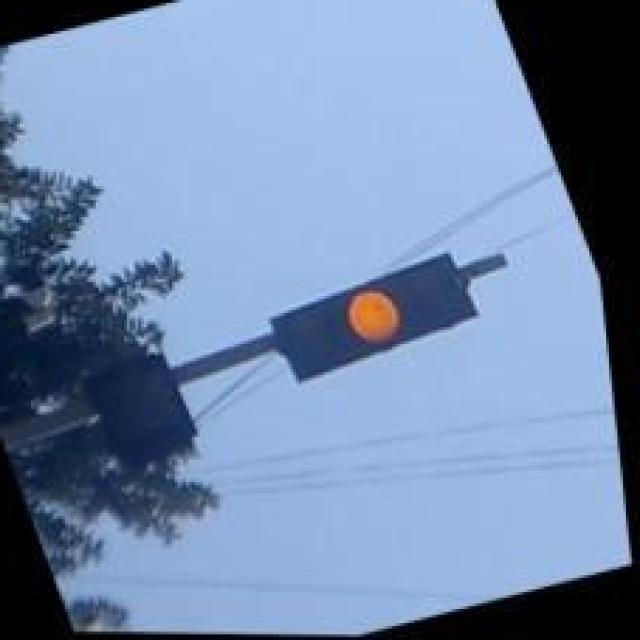yellow_light: (271, 252, 503, 379)
